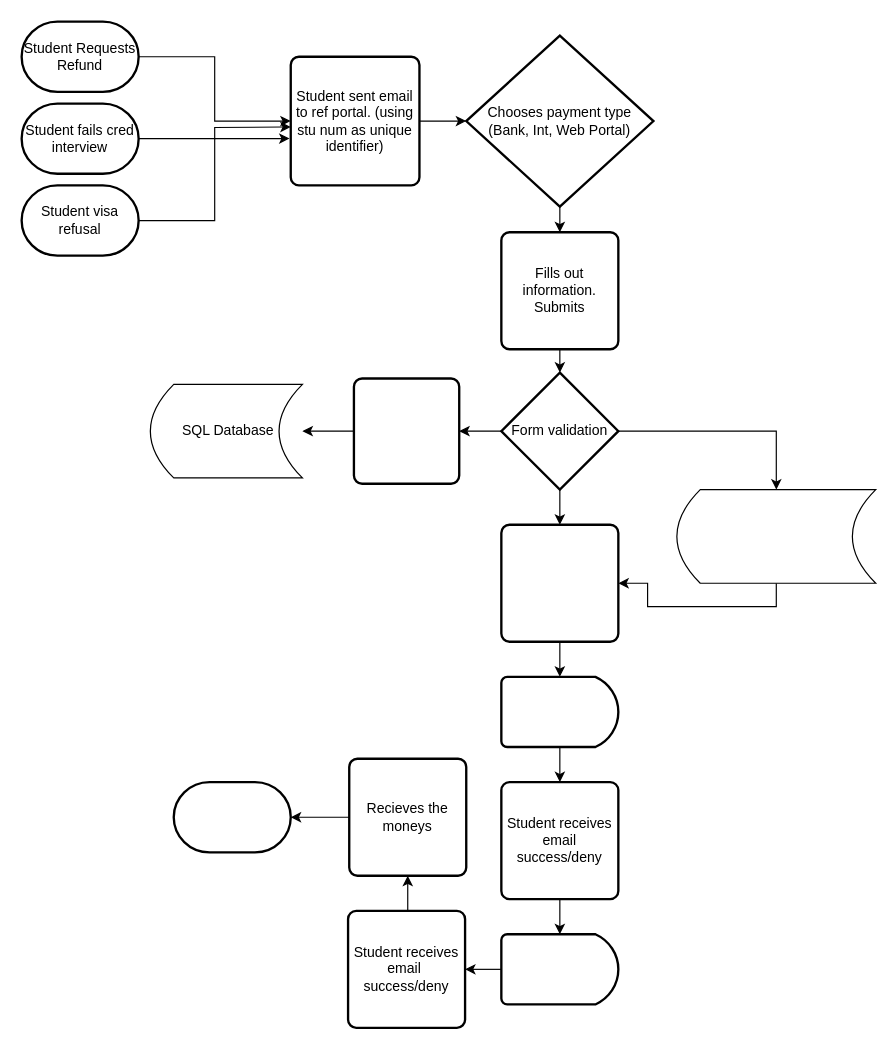
Image size: 896x1048. Some labels were removed from this diagram. The box of each missing label's shape, as (x1, y1, x2, y2) in pixels:
API (Stu Num -> Stu email address): (676, 488, 876, 583)
Data encrypted, stored.: (352, 377, 460, 484)
Student sent email confirm app submitted: (500, 523, 619, 642)
Terminator: (172, 780, 291, 853)
Wait for finance accept/deny: (500, 932, 619, 1005)
Wait for Int team accept/deny: (500, 675, 619, 748)
